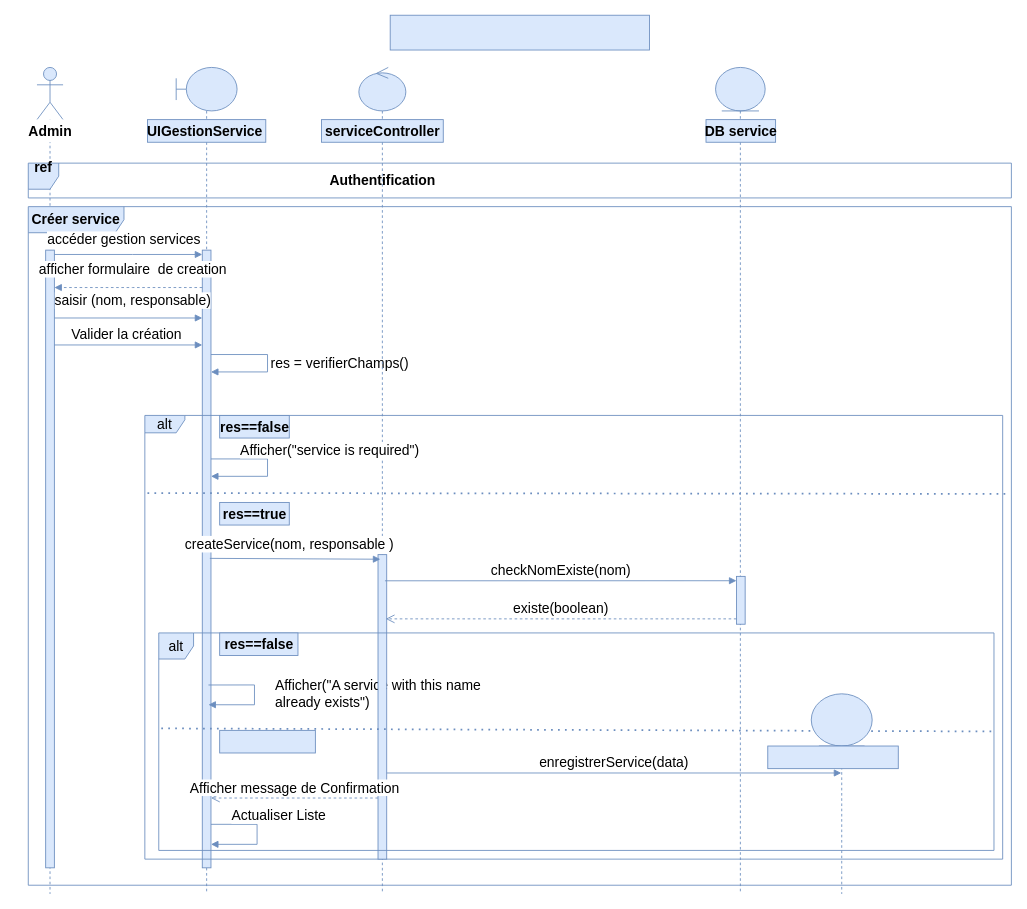
Some shapes in this 1027 by 909 pixel diagram are drawn without their labels. The centre of each missing label's shape, as x and y in pixels:
"exsite==false" belongs at (267,741).
"NouveauService" belongs at (832,757).
"sd Gérer Services(Admin)" belongs at (519,32).
